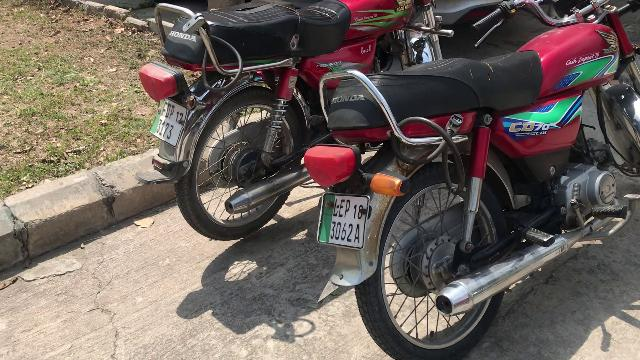plate: (316, 191, 364, 246)
